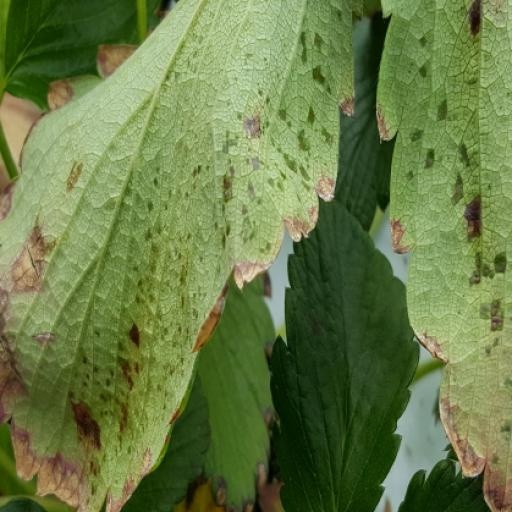Angular Leafspot: (148, 0, 511, 511)
